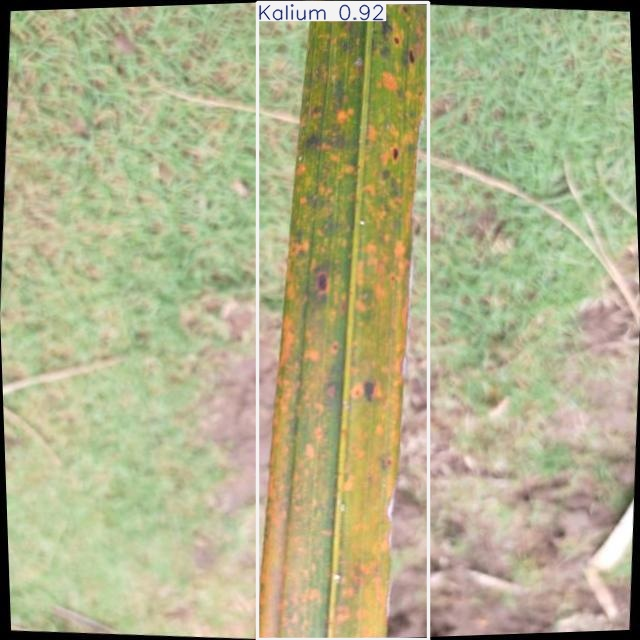Kalium: (258, 3, 428, 640)
